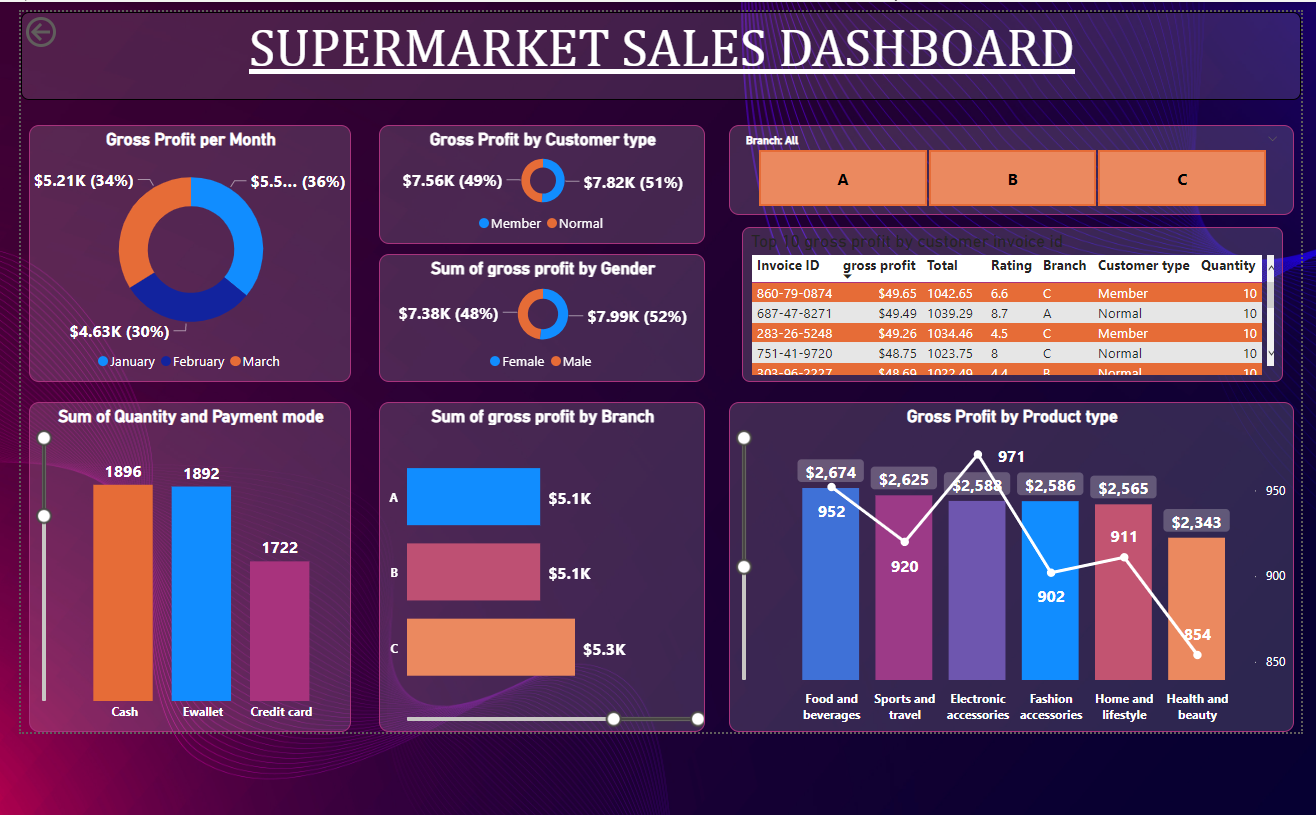

The page's visual inventory and layout, read from the dashboard file:
{"tool":"powerbi","page":{"name":"Page 1","canvas":[1280,720],"ordinal":0},"visuals":[{"type":"textbox","box":[0,0,1280.4,87.8],"z":0},{"type":"donutChart","title":" Gross Profit per Month","fields":{"Category":["supermarket_sales - Sheet1.Date.Variation.Date Hierarchy.Month"],"Y":["Sum(supermarket_sales - Sheet1.gross profit)"]},"box":[7.7,112.6,322.4,257],"z":1000},{"type":"lineStackedColumnComboChart","title":"Gross Profit by Product type","fields":{"Category":["supermarket_sales - Sheet1.Product line"],"Y":["Sum(supermarket_sales - Sheet1.gross profit)"],"Y2":["Sum(supermarket_sales - Sheet1.Quantity)"]},"box":[708.3,389.8,564.9,330.1],"z":2000},{"type":"columnChart","title":"Sum of Quantity and Payment mode","fields":{"Category":["supermarket_sales - Sheet1.Payment"],"Y":["Sum(supermarket_sales - Sheet1.Quantity)"]},"box":[7.7,389.8,322.4,330.1],"z":3000},{"type":"slicer","fields":{"Values":["supermarket_sales - Sheet1.Branch"]},"box":[708.3,112.6,564.9,90.5],"z":4000},{"type":"barChart","fields":{"Category":["supermarket_sales - Sheet1.Branch"],"Y":["Sum(supermarket_sales - Sheet1.gross profit)"]},"box":[358,389.8,326.3,330.1],"z":5000},{"type":"donutChart","fields":{"Category":["supermarket_sales - Sheet1.Gender"],"Y":["Sum(supermarket_sales - Sheet1.gross profit)"]},"box":[358,241.6,326.3,128],"z":6000},{"type":"donutChart","title":" Gross Profit by Customer type","fields":{"Y":["Sum(supermarket_sales - Sheet1.gross profit)"],"Category":["supermarket_sales - Sheet1.Customer type"]},"box":[358,112.6,326.3,119.3],"z":7000},{"type":"tableEx","title":"Top 10 gross profit by customer invoice id","fields":{"Values":["supermarket_sales - Sheet1.Invoice ID","supermarket_sales - Sheet1.gross profit","supermarket_sales - Sheet1.Total","supermarket_sales - Sheet1.Rating","supermarket_sales - Sheet1.Branch","supermarket_sales - Sheet1.Customer type","supermarket_sales - Sheet1.Quantity"]},"box":[720.8,214.6,540.9,154.9],"z":8000},{"type":"actionButton","box":[0,0,100,40],"z":9000}]}

Visuals, with their boxes on the page's 1280x720 design canvas (x1, y1, x2, y2). These are canvas units, not pixel positions in the 1316x815 screenshot, which may show the page scaled, cropped or inside an application window:
textbox: [0,0,1280,88]
" Gross Profit per Month" donutChart: [8,113,330,370]
"Gross Profit by Product type" lineStackedColumnComboChart: [708,390,1273,720]
"Sum of Quantity and Payment mode" columnChart: [8,390,330,720]
slicer - supermarket_sales - Sheet1.Branch: [708,113,1273,203]
barChart - supermarket_sales - Sheet1.Branch x Sum(supermarket_sales - Sheet1.gross profit): [358,390,684,720]
donutChart - supermarket_sales - Sheet1.Gender x Sum(supermarket_sales - Sheet1.gross profit): [358,242,684,370]
" Gross Profit by Customer type" donutChart: [358,113,684,232]
"Top 10 gross profit by customer invoice id" tableEx: [721,215,1262,370]
actionButton: [0,0,100,40]
